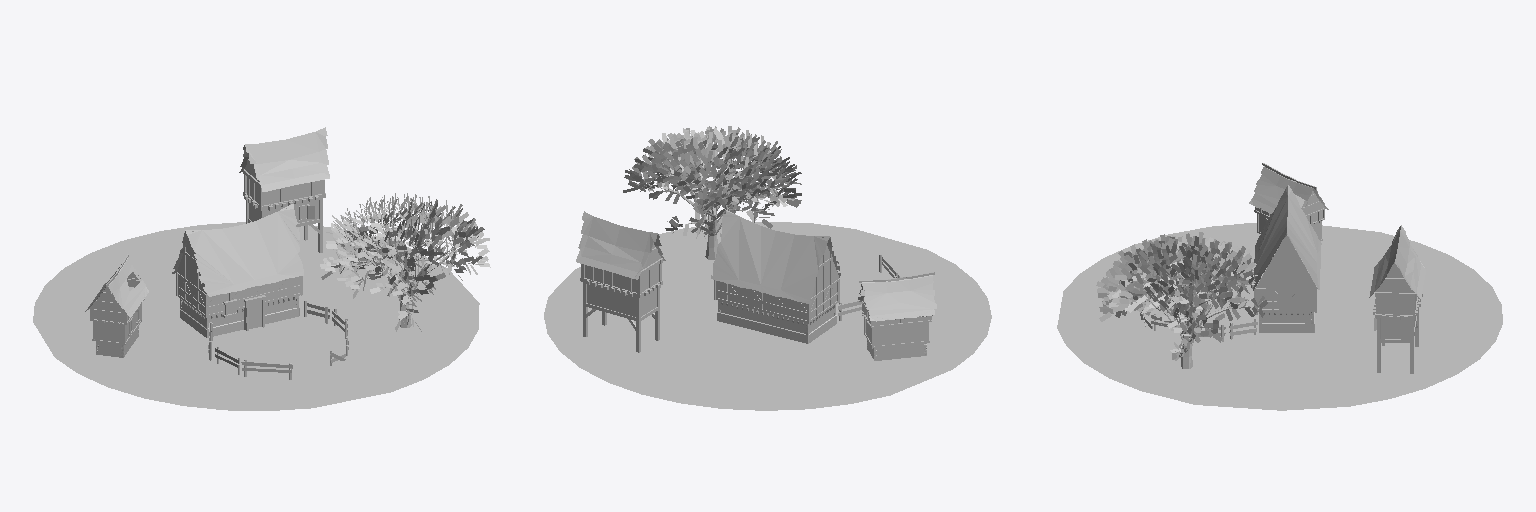
The model's file is myScene3.obj.
The picture shows the model from 3 angles: view 1: azimuth 30°, elevation 25°; view 2: azimuth 150°, elevation 25°; view 3: azimuth 270°, elevation 25°; orthographic projection.
Size of the model in its own units: 11.53 by 3.65 by 11.53.